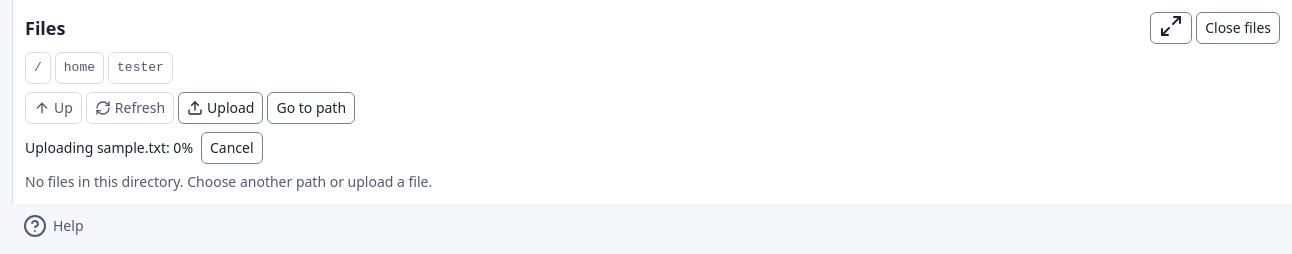
Test: cancels an upload and shows an informational toast
Earlier steps of the test are not shown.
Check: the text "No files in this directory. Choose another path or upload a file." is shown, box [25, 172, 432, 191]
Check: the text "Uploading sample.txt: 0%" is shown, box [25, 138, 193, 158]
Click the button "Cancel".
click(232, 148)  # box [201, 132, 263, 164]
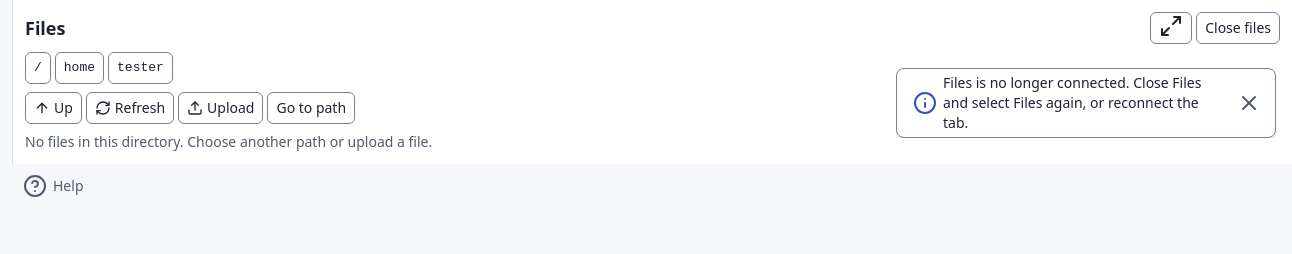
Check: the text "Files is no longer connected. Close Files and select Files again, or reconnect the tab." is shown, box [943, 73, 1202, 132]
Check: the element with class "toast--info" is shown, box [896, 68, 1276, 138]
